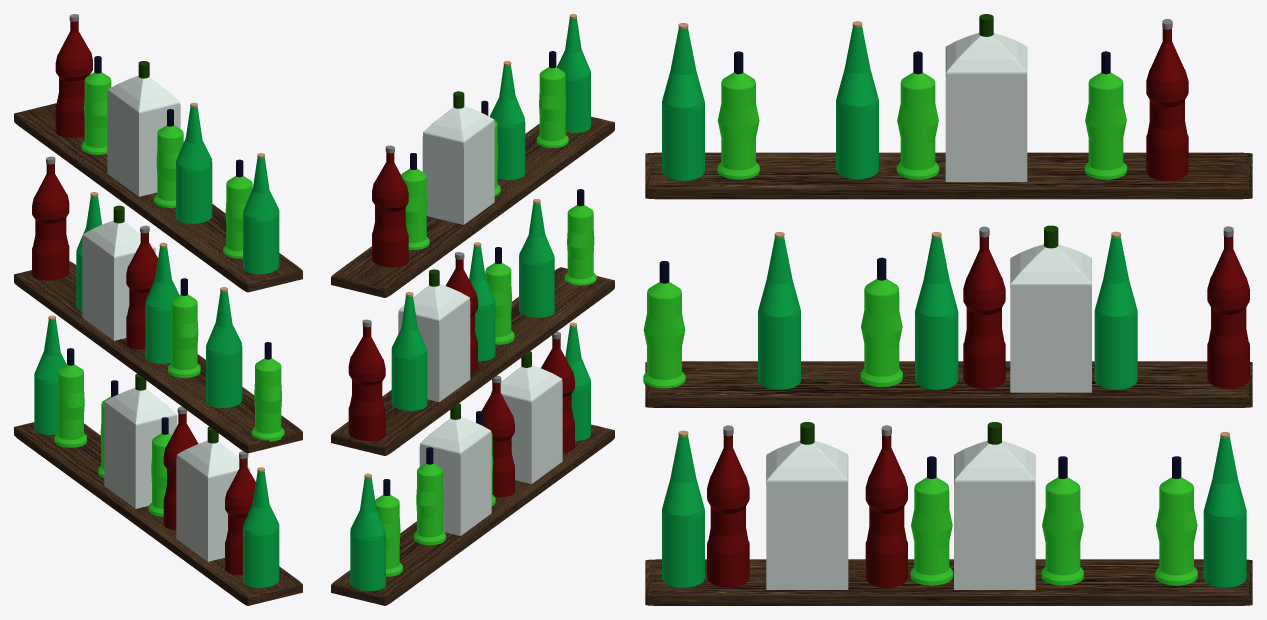
File: Prateleira.fbx
3 renders of one model, left to right at view 1: azimuth 30°, elevation 25°; view 2: azimuth 150°, elevation 25°; view 3: azimuth 270°, elevation 25°, orthographic. The views are drawn at different scales.
Parts seen in each view (by area): view 1: Cube.001, Cube, Cube.002, Cube.010, Cube.006, Cube.003, Cube.008, Cylinder.055, Cylinder.045, Cylinder.002, Cylinder.005, Cylinder.013 (+21 smaller); view 2: Cube, Cube.001, Cube.010, Cube.002, Cube.006, Cube.003, Cube.008, Cylinder.055, Cylinder.045, Cylinder.009, Cylinder.013, Cylinder.021 (+20 smaller); view 3: Cube, Cube.001, Cube.002, Cube.003, Cube.010, Cube.006, Cube.008, Cylinder.030, Cylinder.055, Cylinder.040, Cylinder.035, Cylinder.045 (+22 smaller).
Part boxes in pixels (left/top/right/bottom): Cube.001: left=14, top=261, right=302, bottom=453; Cube: left=14, top=103, right=302, bottom=292; Cube.002: left=14, top=422, right=302, bottom=605; Cube.010: left=107, top=75, right=180, bottom=196; Cube.006: left=104, top=388, right=177, bottom=508; Cube.003: left=176, top=440, right=249, bottom=561; Cube.008: left=82, top=220, right=155, bottom=340; Cylinder.055: left=32, top=174, right=69, bottom=280; Cylinder.045: left=55, top=31, right=92, bottom=137; Cylinder.002: left=243, top=189, right=279, bottom=274; Cylinder.005: left=176, top=139, right=212, bottom=223; Cylinder.013: left=206, top=323, right=242, bottom=407; Cube: left=331, top=116, right=614, bottom=297; Cube.001: left=331, top=267, right=614, bottom=455; Cube.010: left=422, top=106, right=494, bottom=224; Cube.002: left=331, top=424, right=614, bottom=605; Cube.006: left=419, top=417, right=491, bottom=535; Cube.003: left=490, top=365, right=562, bottom=483; Cube.008: left=398, top=284, right=470, bottom=402; Cylinder.055: left=348, top=337, right=385, bottom=441; Cylinder.045: left=372, top=162, right=408, bottom=267; Cylinder.009: left=391, top=327, right=427, bottom=410; Cylinder.013: left=519, top=234, right=554, bottom=317; Cylinder.021: left=350, top=509, right=385, bottom=590; Cube: left=645, top=152, right=1252, bottom=199; Cube.001: left=645, top=361, right=1252, bottom=407; Cube.002: left=645, top=559, right=1252, bottom=605; Cube.003: left=766, top=440, right=848, bottom=589; Cube.010: left=945, top=33, right=1027, bottom=181; Cube.006: left=954, top=440, right=1035, bottom=589; Cube.008: left=1010, top=244, right=1091, bottom=392; Cylinder.030: left=707, top=448, right=749, bottom=587; Cylinder.055: left=1207, top=249, right=1249, bottom=388; Cylinder.040: left=963, top=249, right=1005, bottom=388; Cylinder.035: left=865, top=448, right=907, bottom=587; Cylinder.045: left=1146, top=42, right=1188, bottom=181.
Bounding box in the file's own units: 75.89 × 553 × 535.
Materials: 78 (22 with a texture image).
